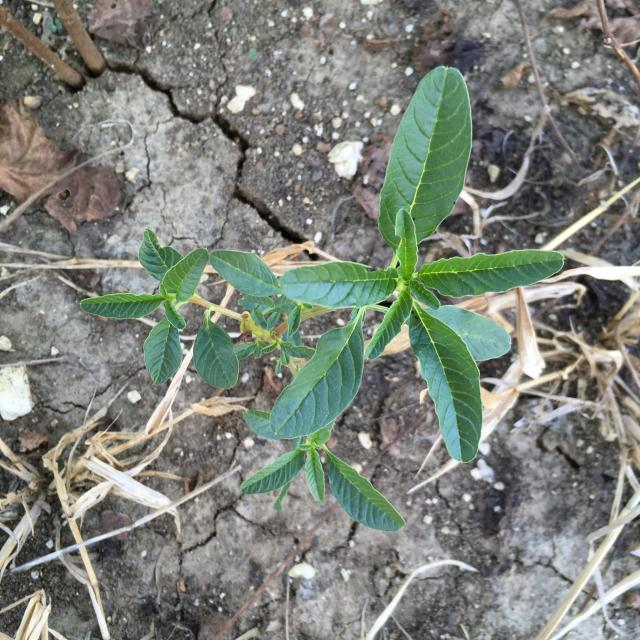Waterhemp: (80, 66, 564, 532)
